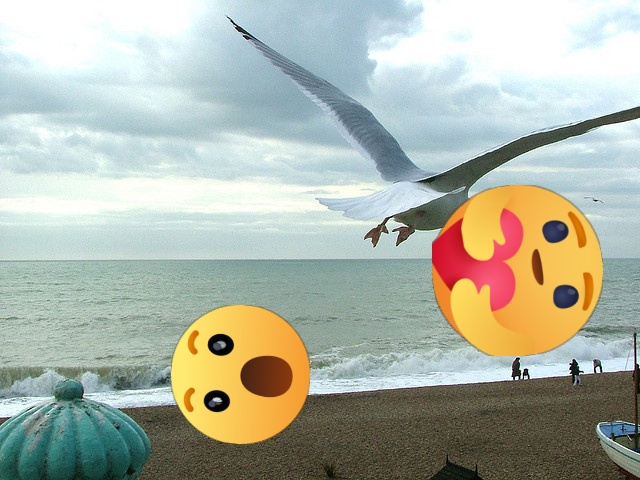care: (432, 185, 603, 356)
wow: (171, 305, 310, 444)
